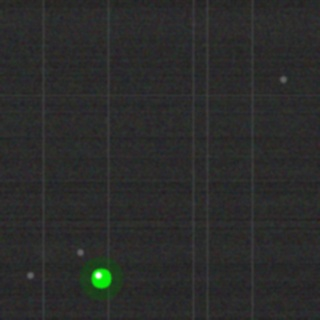green_normal: (89, 266, 113, 290)
